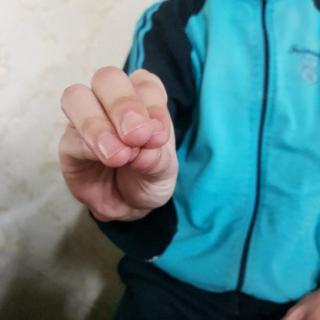HA: (50, 62, 179, 223)
